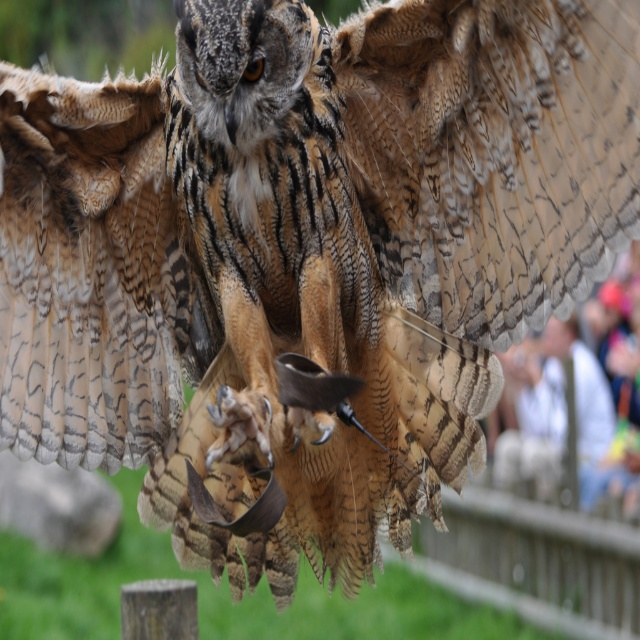Owl: (0, 0, 640, 601)
